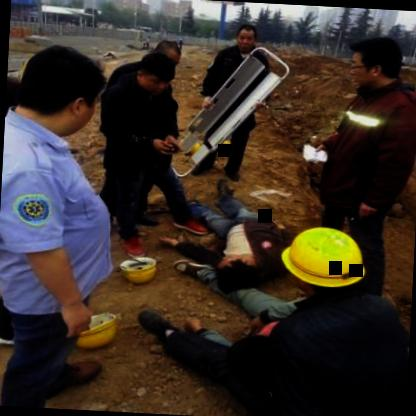helmet: (276, 221, 370, 298)
